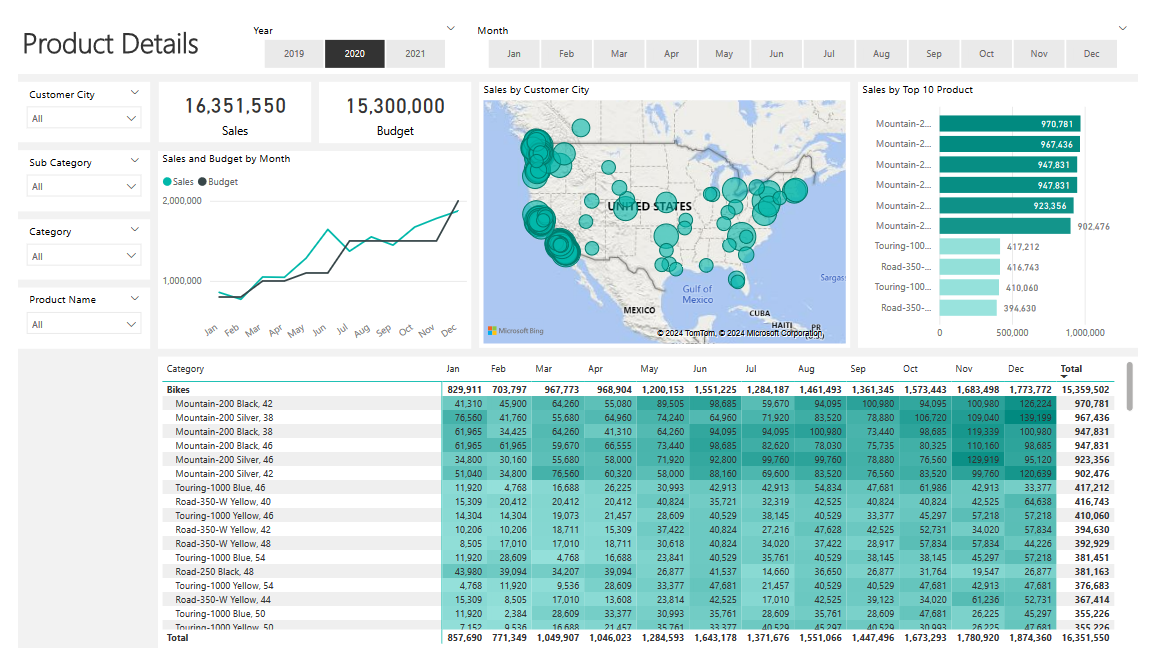

The page's visual inventory and layout, read from the dashboard file:
{"tool":"powerbi","page":{"name":"Product Details","canvas":[1280,720],"ordinal":2},"visuals":[{"type":"textbox","box":[0,0,1280,64],"z":0},{"type":"slicer","fields":{"Values":["DIM_Calendar.Year"]},"box":[256,0,256,64],"z":1000},{"type":"slicer","fields":{"Values":["DIM_Calendar.MonthShort"]},"box":[512,0,768,64],"z":2000},{"type":"slicer","fields":{"Values":["DIM_Customers.Customer City"]},"box":[0,73,150.5,69.3],"z":3000},{"type":"slicer","fields":{"Values":["DIM_Products.Product Category"]},"box":[0,229.9,150.5,69.3],"z":4000},{"type":"slicer","fields":{"Values":["DIM_Products.Product Name"]},"box":[0,308.4,150.5,69.3],"z":5000},{"type":"slicer","fields":{"Values":["DIM_Products.Sub Category"]},"box":[0,151.4,150.5,69.3],"z":6000},{"type":"lineChart","fields":{"Category":["DIM_Calendar.MonthShort"],"Y":["Analysis Metrics.Sales","Analysis Metrics.Budget"]},"box":[159.8,151.8,358.7,226.4],"z":7000},{"type":"card","fields":{"Values":["Analysis Metrics.Sales"]},"box":[160.7,72.8,174,69.2],"z":8000},{"type":"map","fields":{"Category":["DIM_Customers.Customer City"],"Size":["Analysis Metrics.Sales"]},"box":[527.3,72.8,423.5,304.5],"z":9000},{"type":"card","fields":{"Values":["Analysis Metrics.Budget"]},"box":[343.6,72.8,174.9,70.1],"z":10000},{"type":"pivotTable","fields":{"Rows":["DIM_Products.Product Category","DIM_Products.Product Name"],"Columns":["DIM_Calendar.MonthShort"],"Values":["Analysis Metrics.Sales"]},"box":[159.8,387.1,1120.4,332.9],"z":11000},{"type":"clusteredBarChart","title":"Sales by Top 10 Product","fields":{"Category":["DIM_Products.Product Name"],"Y":["Analysis Metrics.Sales"]},"box":[959.7,72.8,320.5,304.5],"z":12000}]}

Visuals, with their boxes in screenshot pixels (x1, y1, x2, y2), scaled from the page's 1280x720 canvas onto the 1153x662 screenshot:
textbox: bbox=[0, 0, 1152, 59]
slicer - DIM_Calendar.Year: bbox=[231, 0, 461, 59]
slicer - DIM_Calendar.MonthShort: bbox=[461, 0, 1152, 59]
slicer - DIM_Customers.Customer City: bbox=[0, 67, 136, 131]
slicer - DIM_Products.Product Category: bbox=[0, 211, 136, 275]
slicer - DIM_Products.Product Name: bbox=[0, 284, 136, 347]
slicer - DIM_Products.Sub Category: bbox=[0, 139, 136, 203]
lineChart - DIM_Calendar.MonthShort x Analysis Metrics.Sales: bbox=[144, 140, 467, 348]
card - Analysis Metrics.Sales: bbox=[145, 67, 301, 131]
map - DIM_Customers.Customer City x Analysis Metrics.Sales: bbox=[475, 67, 856, 347]
card - Analysis Metrics.Budget: bbox=[310, 67, 467, 131]
pivotTable - DIM_Products.Product Category x DIM_Products.Product Name: bbox=[144, 356, 1152, 661]
"Sales by Top 10 Product" clusteredBarChart: bbox=[864, 67, 1152, 347]
